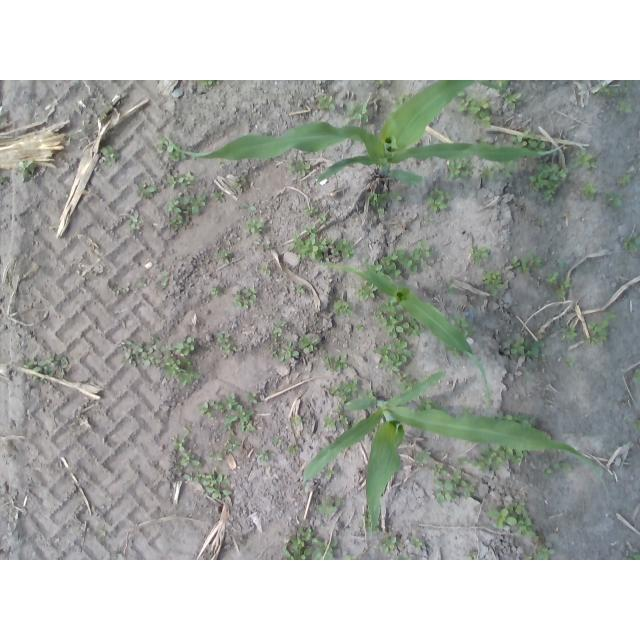Maize: (301, 372, 607, 537), (163, 80, 566, 185), (317, 261, 491, 406)
Weeds: (120, 334, 202, 386), (202, 393, 259, 436), (488, 501, 538, 540), (429, 462, 476, 503), (375, 298, 423, 338), (529, 164, 570, 203), (472, 446, 529, 474), (184, 466, 233, 498), (373, 341, 412, 375), (24, 353, 69, 381), (169, 194, 206, 227), (375, 250, 418, 277), (172, 435, 201, 473), (289, 236, 332, 261), (503, 337, 545, 362), (283, 528, 314, 561), (457, 97, 491, 127), (232, 283, 259, 310), (510, 131, 547, 150), (327, 380, 358, 401), (425, 188, 451, 213), (311, 537, 338, 560), (497, 413, 539, 427), (450, 160, 475, 181), (494, 161, 524, 178), (316, 495, 344, 513), (322, 355, 348, 373), (470, 246, 491, 268), (333, 238, 355, 259), (355, 282, 378, 302), (345, 102, 368, 121), (506, 256, 531, 273), (571, 150, 593, 169), (623, 232, 640, 256), (451, 314, 470, 335), (288, 159, 310, 177), (217, 334, 235, 355), (102, 145, 120, 166), (20, 160, 36, 183), (412, 241, 431, 260), (334, 300, 355, 317), (167, 143, 186, 161), (317, 94, 337, 111), (588, 320, 609, 336), (223, 437, 241, 455), (505, 91, 522, 109), (272, 323, 288, 342), (137, 183, 157, 198), (244, 219, 264, 234), (214, 249, 234, 264), (379, 536, 397, 552), (582, 184, 598, 201), (301, 334, 317, 351), (279, 350, 299, 363), (394, 92, 410, 108), (414, 451, 431, 466), (160, 173, 177, 188), (605, 193, 623, 207), (255, 450, 276, 462), (536, 548, 555, 561), (489, 280, 504, 296), (561, 327, 577, 342), (368, 194, 386, 207), (483, 270, 501, 283), (127, 215, 142, 230), (398, 380, 416, 392), (529, 253, 543, 268), (153, 135, 168, 149), (478, 166, 494, 179), (178, 173, 194, 186), (302, 205, 320, 216), (302, 223, 316, 237), (553, 463, 572, 473), (546, 273, 559, 287), (618, 100, 632, 113), (617, 174, 631, 186), (324, 415, 336, 429), (241, 201, 257, 211), (419, 397, 431, 410), (445, 279, 456, 293), (363, 389, 378, 399), (372, 81, 393, 88), (455, 458, 471, 467), (162, 271, 171, 287), (604, 310, 617, 321), (627, 548, 640, 559), (555, 286, 566, 298), (559, 278, 572, 288), (286, 443, 298, 453), (632, 369, 640, 383), (230, 182, 246, 189), (412, 537, 423, 547), (463, 406, 473, 417), (274, 434, 283, 446), (390, 193, 403, 201), (598, 335, 608, 345), (542, 469, 553, 478), (292, 417, 301, 428), (622, 80, 630, 92), (396, 372, 408, 380), (211, 190, 223, 198), (477, 133, 486, 143), (213, 453, 223, 462), (587, 338, 598, 346), (424, 218, 434, 226), (565, 359, 575, 367), (468, 551, 478, 559), (324, 468, 334, 476), (183, 424, 191, 434), (293, 285, 303, 293), (556, 259, 564, 268), (270, 348, 278, 357), (319, 215, 327, 224), (599, 85, 609, 92), (634, 420, 640, 431), (341, 417, 349, 425), (286, 340, 294, 348), (262, 266, 270, 274), (211, 288, 219, 296), (523, 553, 532, 560), (114, 289, 123, 296), (202, 80, 212, 86), (497, 80, 507, 86), (356, 324, 364, 331), (126, 282, 131, 292), (347, 556, 356, 561), (609, 89, 616, 95), (237, 175, 243, 182), (378, 209, 386, 214), (457, 92, 465, 97), (219, 162, 225, 168), (138, 282, 145, 287), (265, 244, 271, 249)
